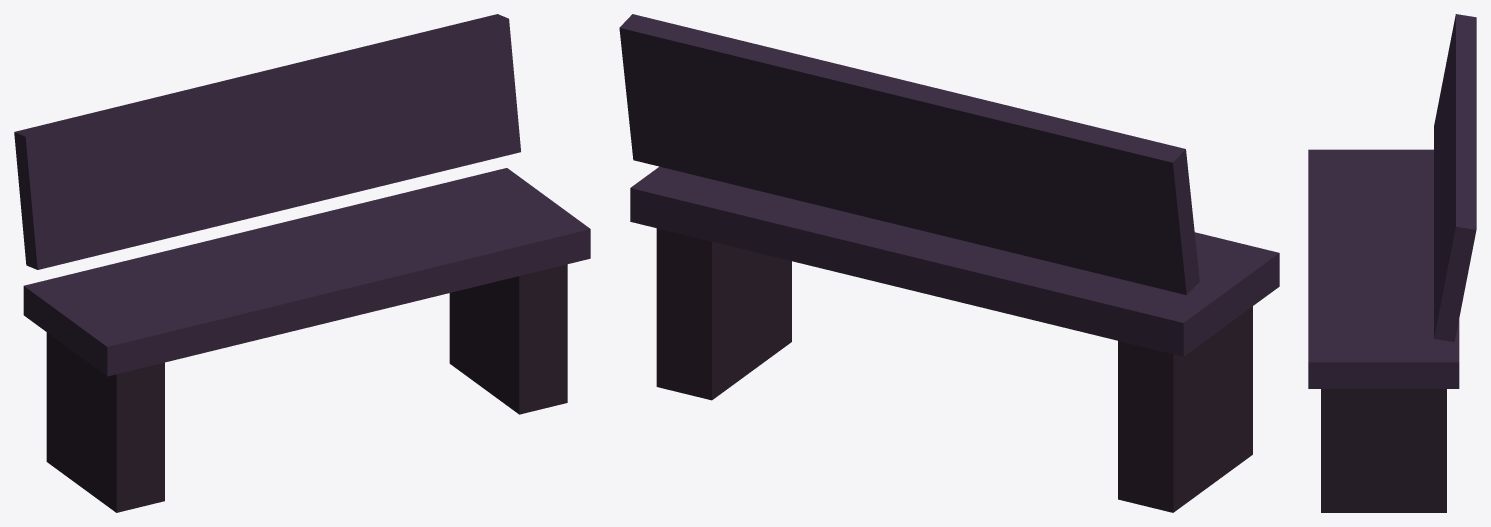
File: banc_modele.glb
3 renders of one model, left to right at view 1: azimuth 30°, elevation 25°; view 2: azimuth 150°, elevation 25°; view 3: azimuth 270°, elevation 25°, orthographic. The views are drawn at different scales.
Visible parts, largest first — view 1: P2.012, P1.012, P3.007, P4.014; view 2: P2.012, P1.012, P3.007, P4.014; view 3: P1.012, P4.014, P2.012.
Part boxes in pixels (x1=…): P2.012: x1=14, y1=14, x2=520, y2=269; P1.012: x1=23, y1=168, x2=590, y2=376; P3.007: x1=46, y1=332, x2=164, y2=512; P4.014: x1=449, y1=264, x2=567, y2=414; P2.012: x1=619, y1=14, x2=1199, y2=295; P1.012: x1=630, y1=166, x2=1279, y2=356; P3.007: x1=1118, y1=306, x2=1252, y2=512; P4.014: x1=656, y1=228, x2=791, y2=400; P1.012: x1=1308, y1=149, x2=1459, y2=388; P4.014: x1=1321, y1=389, x2=1446, y2=512; P2.012: x1=1434, y1=14, x2=1476, y2=342.
Size of the model in its own units: 1.2 by 0.7721 by 0.4007.
